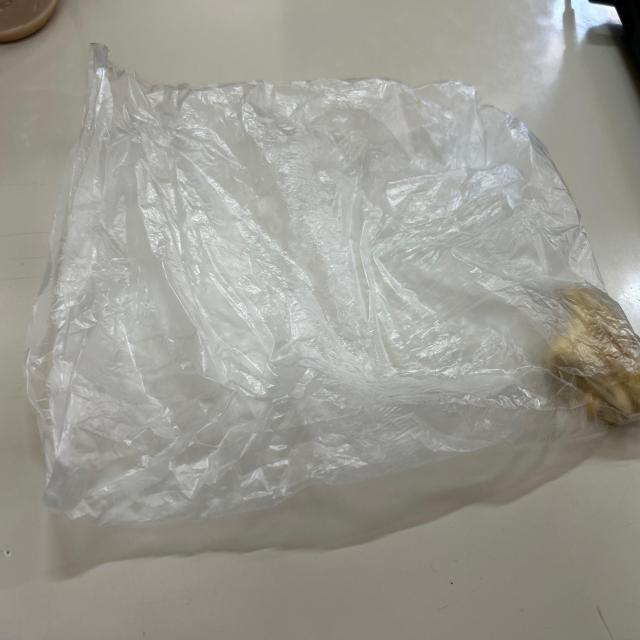inorganic: (23, 38, 640, 525)
